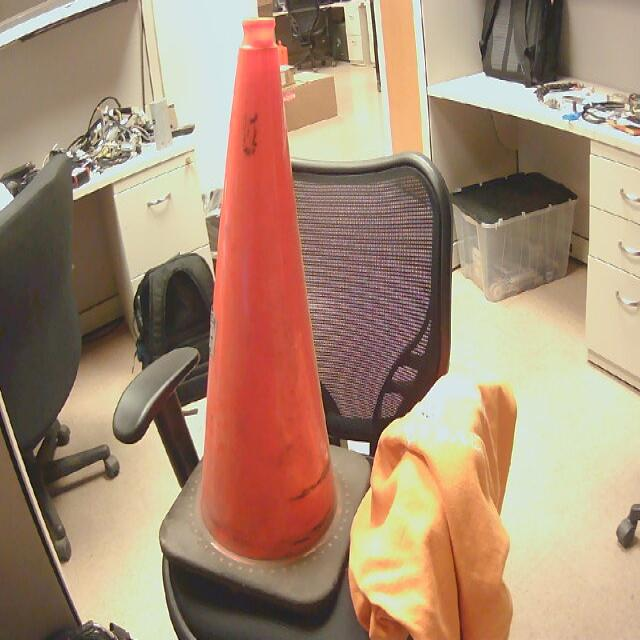traffic cone: (198, 18, 339, 566)
